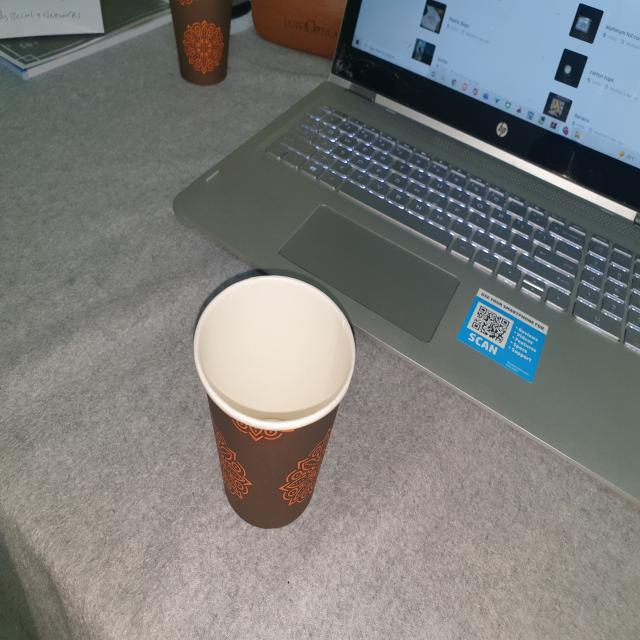cups: (186, 264, 359, 535)
